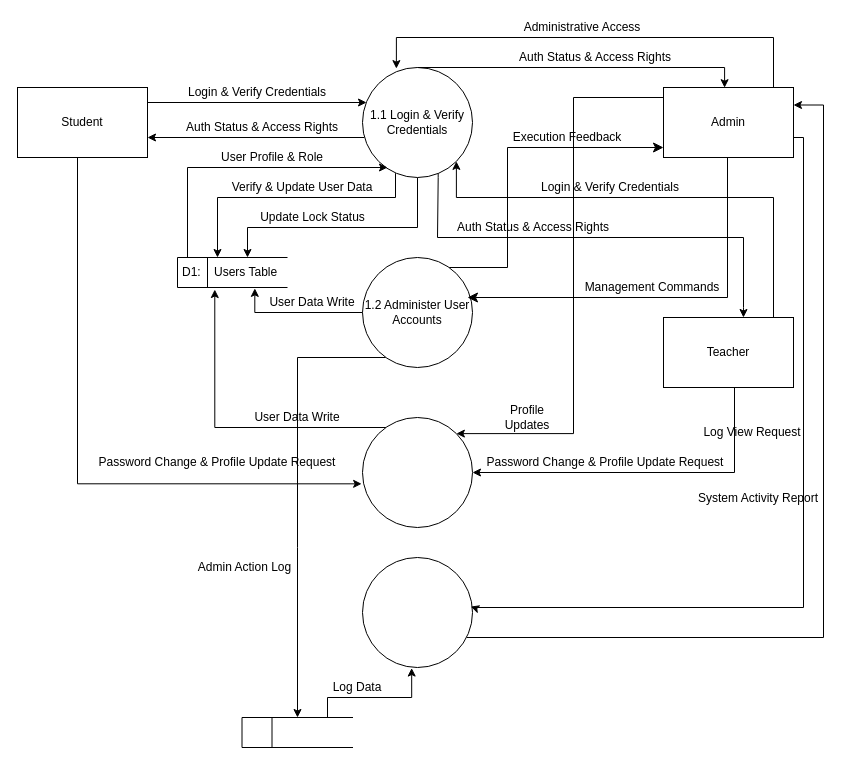
This 851x765 diagram has some shape labels left out. The box of each missing label's shape, as (x1, y1, x2, y2) in pixels:
1.3 Manage Personal Profile: (362, 416, 472, 528)
1.4 Monitor System Logs: (362, 556, 472, 668)
D5: System log: (241, 716, 353, 748)
